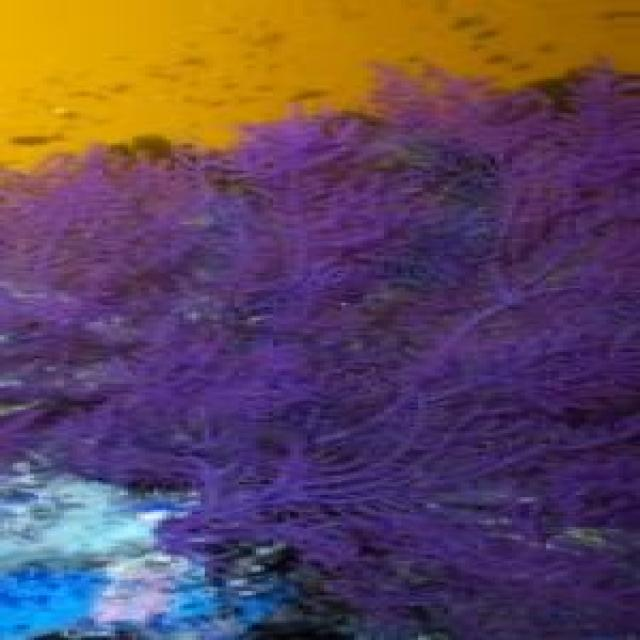Healthy: (1, 67, 640, 640), (10, 472, 291, 640)
